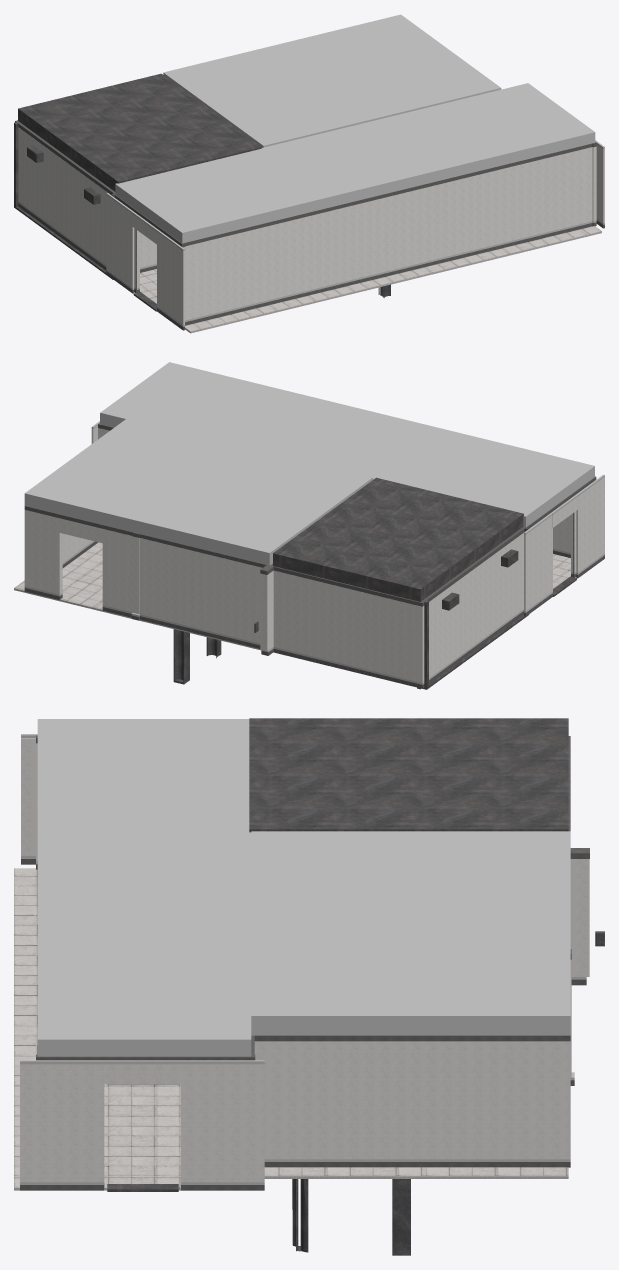
File: scp_room_lightingtest.dae
3 renders of one model, top to bottom at view 1: azimuth 30°, elevation 25°; view 2: azimuth 150°, elevation 25°; view 3: azimuth 270°, elevation 25°, orthographic. The views are drawn at different scales.
Visible parts, largest first — view 1: SCP Test Room.004, SCP Test Room.012, SCP Test Room.002, SCP Test Room.011, SCP Test Room.010, SCP Test Room.005, SCP Test Room.009; view 2: SCP Test Room.004, SCP Test Room.012, SCP Test Room.002, SCP Test Room.011, SCP Test Room.010, SCP Test Room.005, SCP Test Room.009; view 3: SCP Test Room.004, SCP Test Room.012, SCP Test Room.002, SCP Test Room.010, SCP Test Room.011, SCP Test Room.005, SCP Test Room.009.
Boxes of the visible parts, x1,y1,x2,y2 form: SCP Test Room.004: (115, 14, 595, 243); SCP Test Room.012: (18, 127, 604, 325); SCP Test Room.002: (14, 73, 390, 311); SCP Test Room.011: (15, 120, 604, 330); SCP Test Room.010: (140, 226, 601, 331); SCP Test Room.005: (18, 140, 604, 326); SCP Test Room.009: (185, 231, 601, 333); SCP Test Room.004: (24, 362, 594, 565); SCP Test Room.012: (24, 426, 604, 682); SCP Test Room.002: (173, 477, 576, 689); SCP Test Room.011: (24, 423, 604, 688); SCP Test Room.010: (14, 542, 570, 609); SCP Test Room.005: (24, 421, 604, 684); SCP Test Room.009: (14, 588, 260, 650); SCP Test Room.004: (37, 719, 570, 1056); SCP Test Room.012: (20, 738, 589, 1182); SCP Test Room.002: (107, 718, 604, 1255); SCP Test Room.010: (14, 868, 568, 1187); SCP Test Room.011: (20, 735, 589, 1190); SCP Test Room.005: (20, 734, 586, 1184); SCP Test Room.009: (14, 1176, 568, 1190).
Size of the model in its own units: 50.31 by 38.15 by 22.3.
